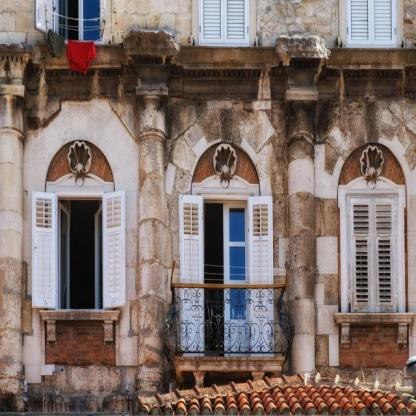door: (172, 184, 276, 358), (27, 184, 130, 322), (340, 184, 405, 322)
